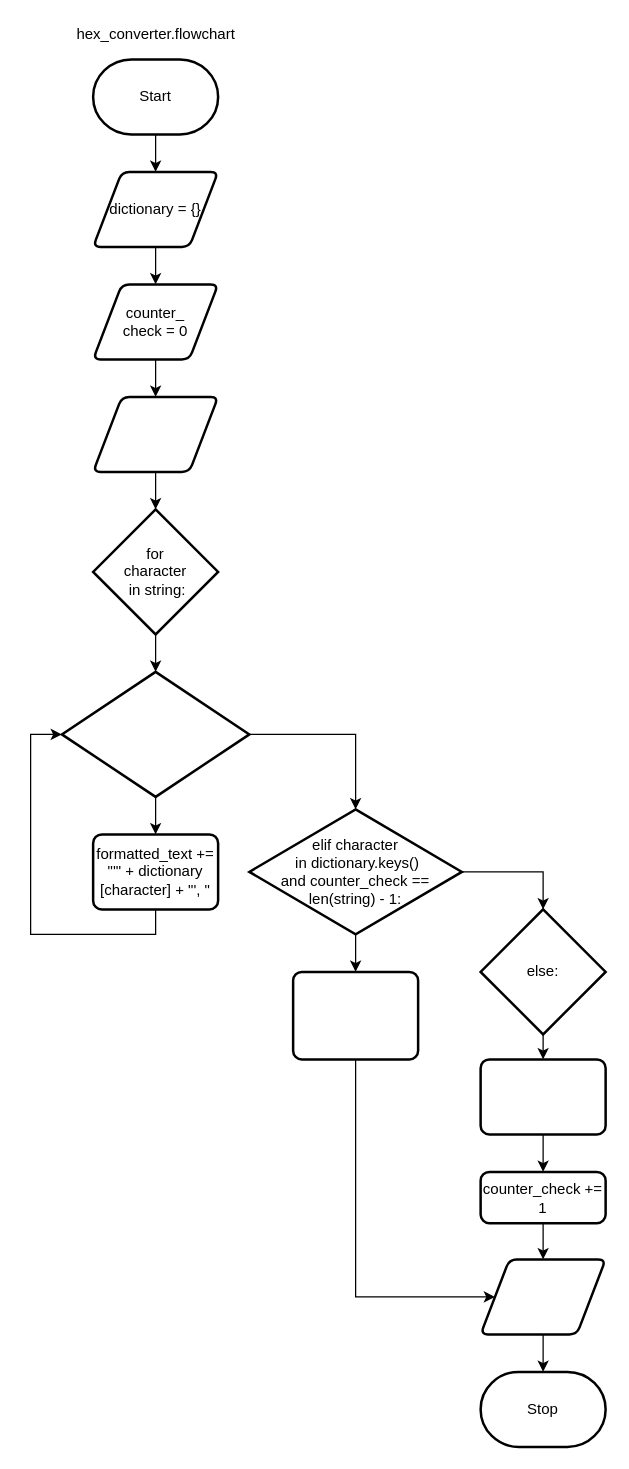
Some shapes in this 629 by 1469 pixel diagram are drawn without their labels. Here are the shapes that lost their labels. From the top down, the box of each, then its label:
(91, 395, 219, 472): formatted_ text = "["
(60, 670, 250, 798): if character in dictionary.keys() and not counter_check == len(string) - 1:
(291, 970, 419, 1060): formatted_text += "'" + dictionary [character] + "']"
(479, 1058, 606, 1135): formatted_text += "'That is not a valid input.']"
(479, 1258, 606, 1335): return formatted_ text
